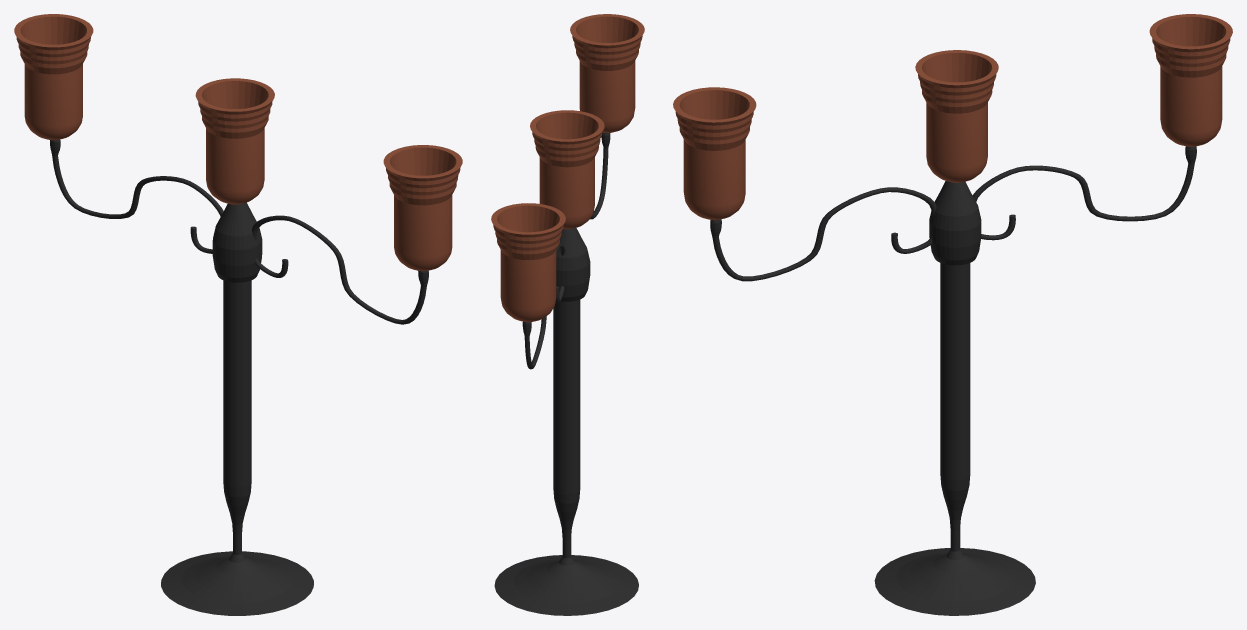
The model's file is 1kgsY8kDKT_.glb.
3 views of the same model, side by side, from view 1: azimuth 30°, elevation 25°; view 2: azimuth 150°, elevation 25°; view 3: azimuth 270°, elevation 25° (orthographic). The views are drawn at different scales.
Visible parts, largest first — view 1: Cylinder002, Cylinder001; view 2: Cylinder002, Cylinder001; view 3: Cylinder002, Cylinder001.
Boxes of the visible parts, bbox=[...] form: Cylinder002: bbox=[14, 14, 462, 271]; Cylinder001: bbox=[50, 139, 428, 615]; Cylinder002: bbox=[491, 14, 644, 322]; Cylinder001: bbox=[494, 132, 638, 615]; Cylinder002: bbox=[673, 14, 1232, 220]; Cylinder001: bbox=[710, 146, 1196, 615].
Bounding box in the file's own units: 0.4534 × 1 × 0.9882.
